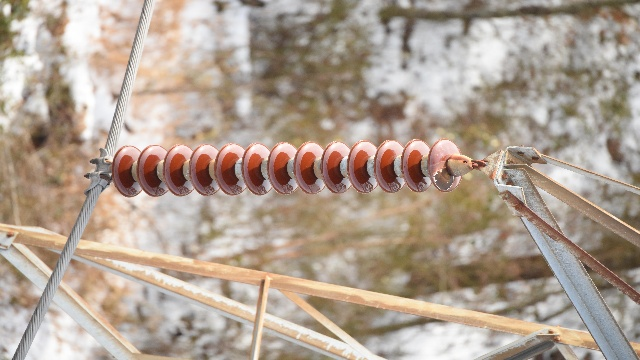insulator_unspecified: (112, 136, 461, 198)
pollution_flashover_local: (433, 169, 458, 192)
